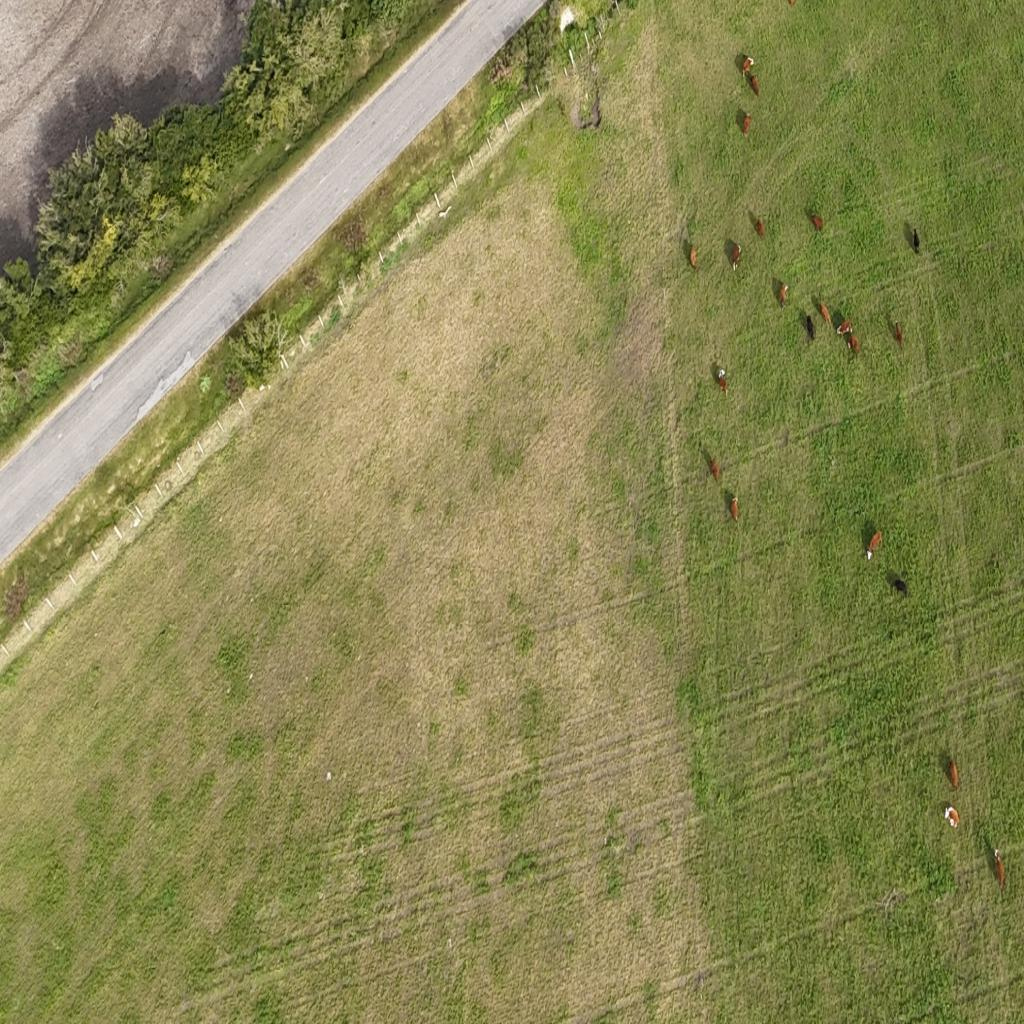cow: (864, 529, 882, 564), (992, 844, 1005, 888), (943, 805, 960, 830), (890, 576, 908, 596), (746, 70, 758, 99), (949, 758, 959, 790), (819, 300, 831, 326), (717, 369, 728, 397), (837, 320, 852, 340), (731, 242, 741, 271), (710, 457, 720, 483), (729, 495, 739, 521), (742, 56, 754, 77), (806, 314, 815, 341), (848, 336, 860, 356), (812, 214, 824, 232), (780, 282, 788, 308), (912, 226, 920, 252), (743, 113, 751, 137), (895, 322, 903, 346), (756, 217, 764, 239), (690, 246, 697, 270)
